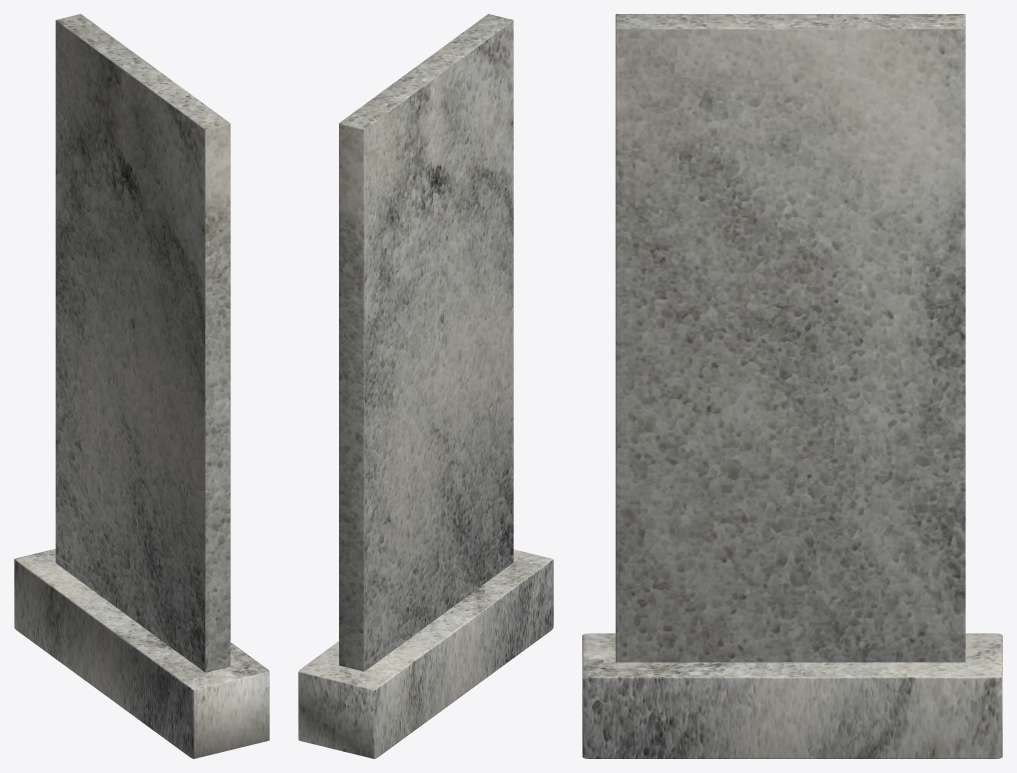
Rendered from Прямой мрамор[marble_1_muslim] (100).glb.
3 renders of one model, left to right at view 1: azimuth 30°, elevation 25°; view 2: azimuth 150°, elevation 25°; view 3: azimuth 270°, elevation 25°, orthographic. The views are drawn at different scales.
Parts seen in each view (by area): view 1: Cube.029, Куб.011; view 2: Cube.029, Куб.011; view 3: Cube.029, Куб.011.
Part boxes in pixels (box(x1,y1,x2,y2)): Cube.029: box(55, 14, 230, 672); Куб.011: box(14, 549, 269, 758); Cube.029: box(339, 14, 513, 671); Куб.011: box(298, 549, 553, 758); Cube.029: box(615, 14, 965, 662); Куб.011: box(582, 633, 1002, 758).
Bounding box in the file's own units: 0.15 × 1.13 × 0.6.
Materials: 1 (1 with a texture image).
